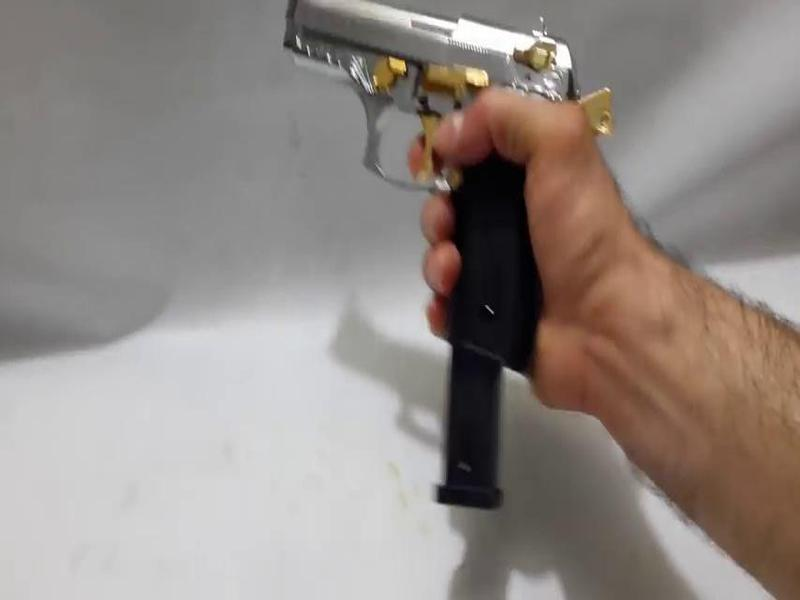Pistola: (232, 1, 624, 364)
